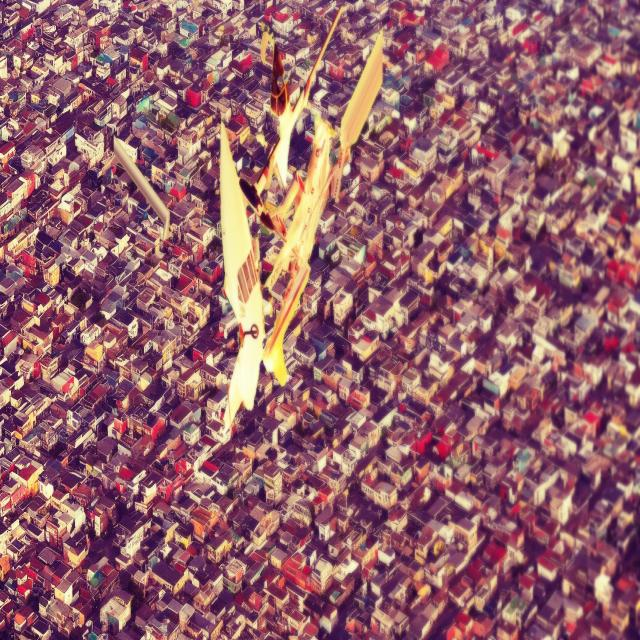airplane: (219, 31, 383, 434), (253, 7, 347, 196)
